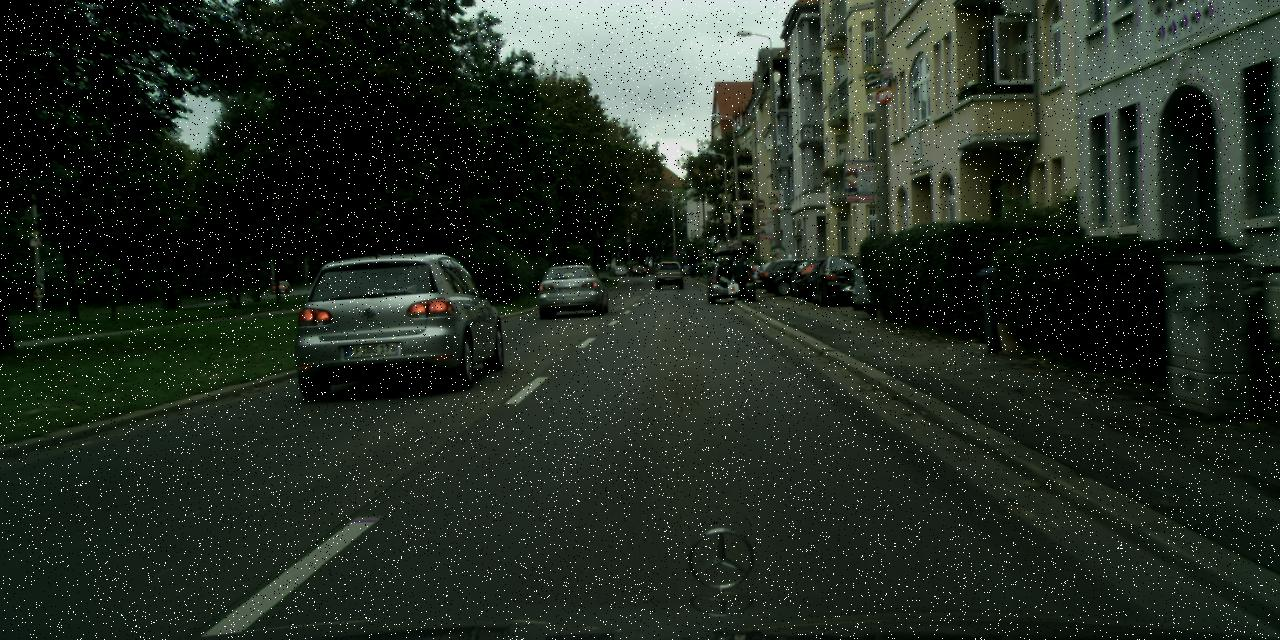ped: (731, 252, 751, 302), (689, 261, 695, 276)
